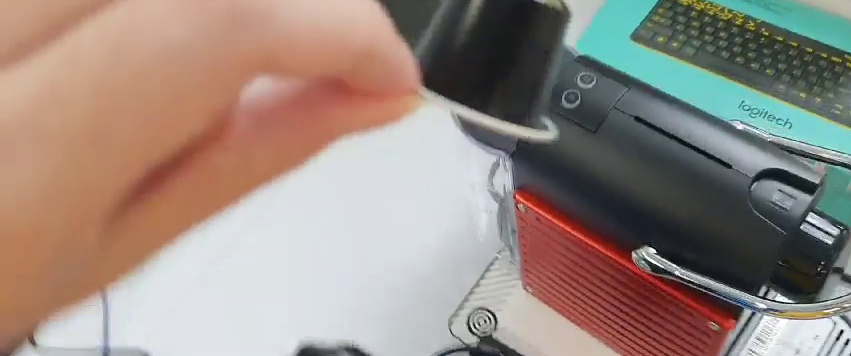capsule_10: (393, 1, 567, 143)
